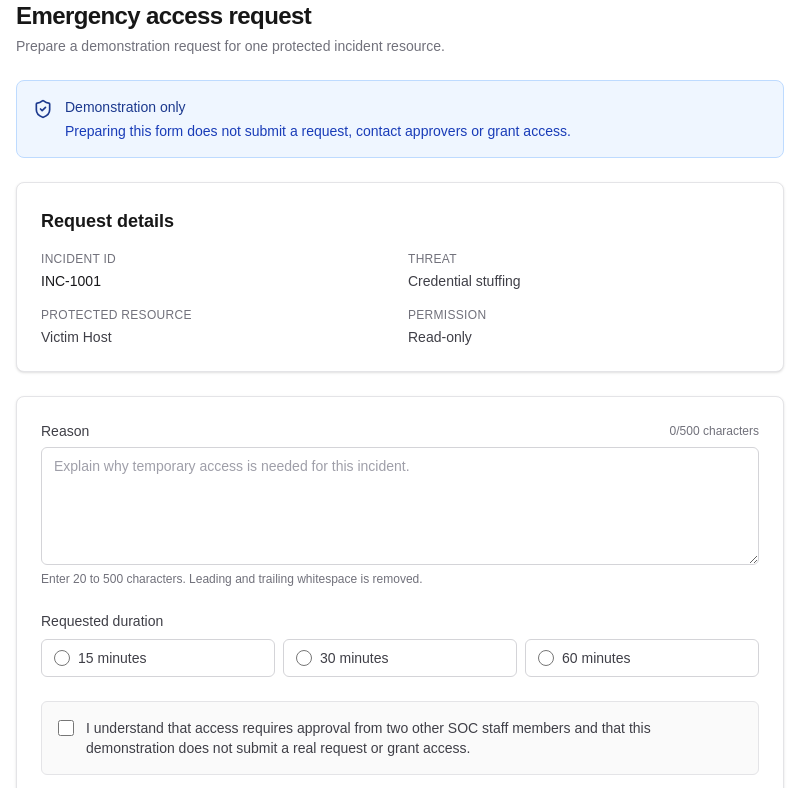
Test case: AccessRequestView › rejects a reason shorter than 20 characters
Check: the heading "Emergency access request" is shown, box x1=16 y1=2 x2=311 y2=29
In the text box labelled "Reason": (400, 506) x1=41 y1=447 x2=759 y2=565, type "Too short"
(page scrolled)
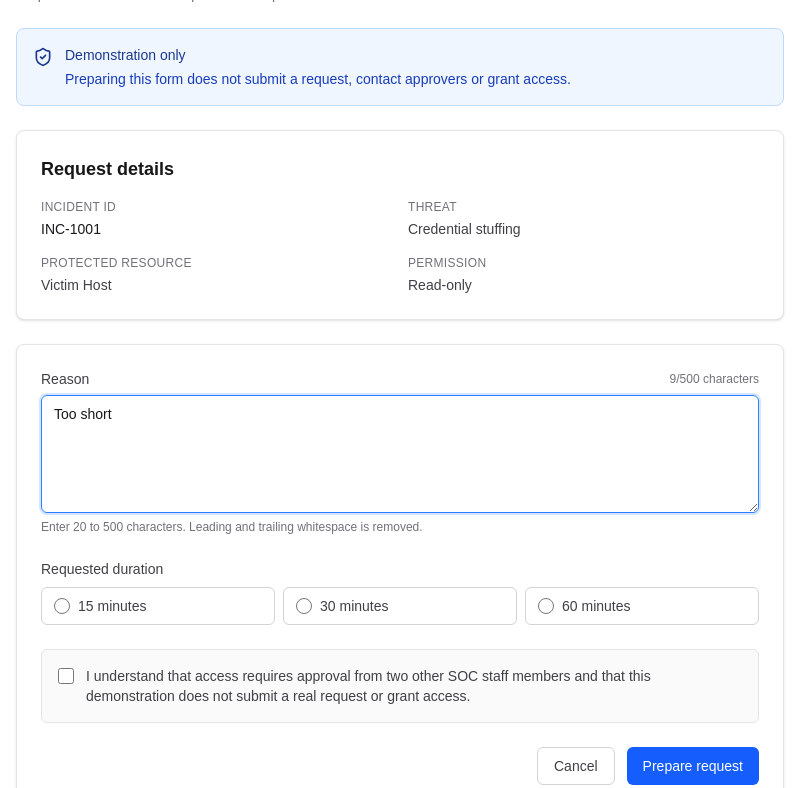
Click the button "Prepare request": click(693, 766) x1=627 y1=747 x2=759 y2=785
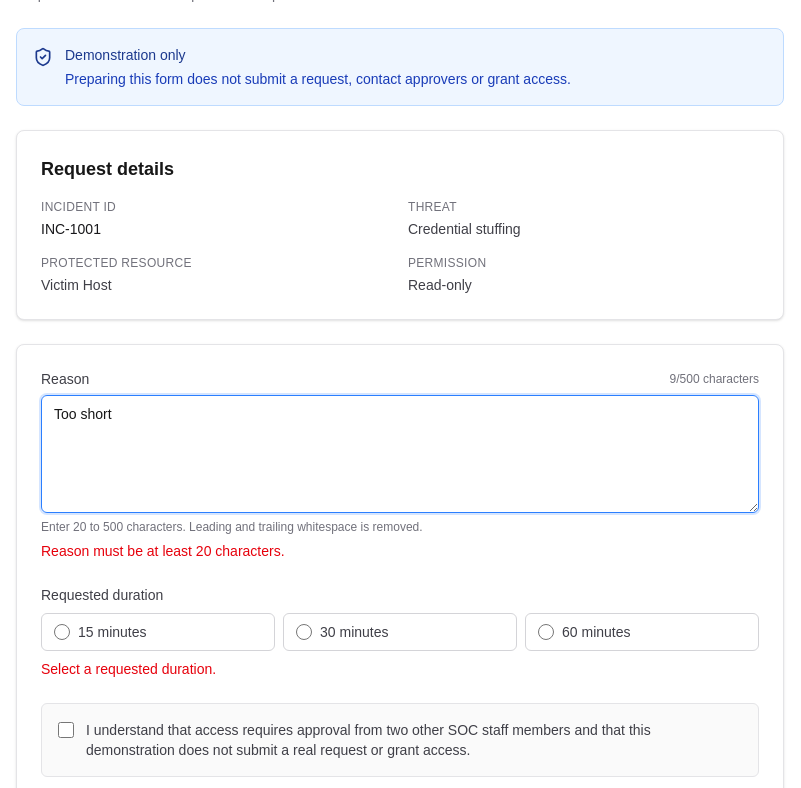
Check: the text "Reason must be at least 20 characters." is shown, box x1=41 y1=543 x2=285 y2=559
